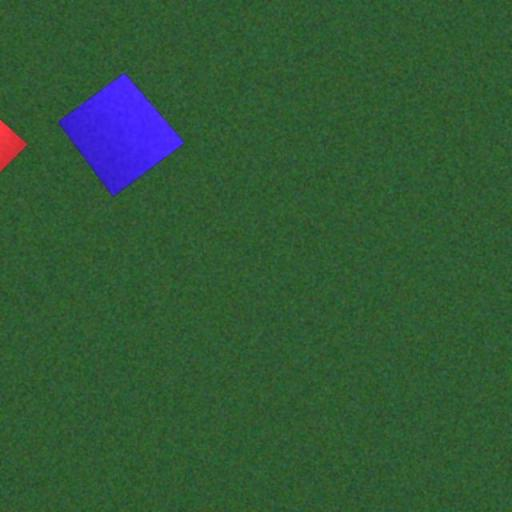BLUE_SQUARE: (58, 72, 186, 198)
RED_SQUARE: (0, 116, 29, 176)
